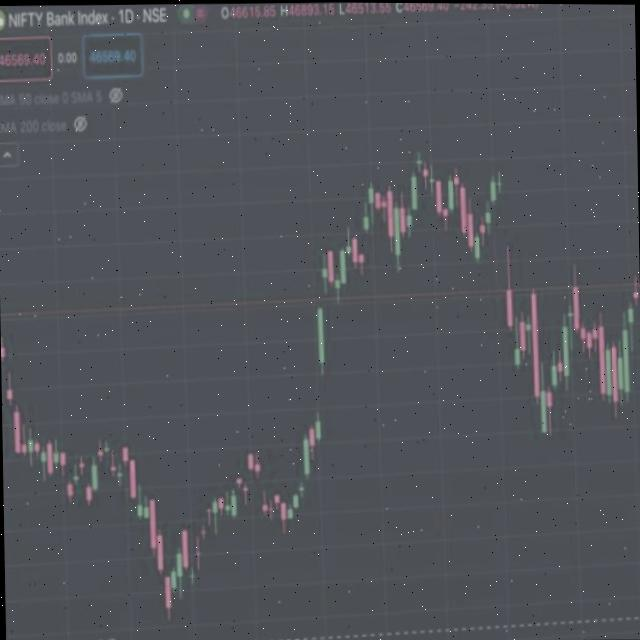Gap Down: (492, 181, 512, 326), (255, 461, 268, 512), (1, 349, 11, 398)
Gap Up: (312, 307, 328, 439), (316, 266, 328, 363), (359, 217, 368, 265)
